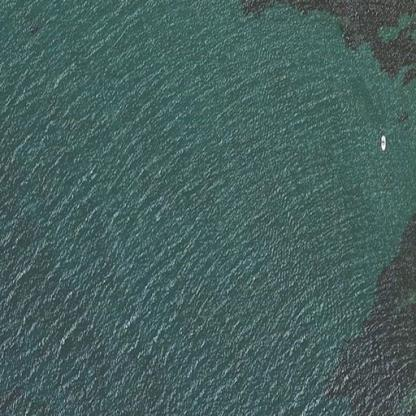ship: (372, 126, 391, 157)
